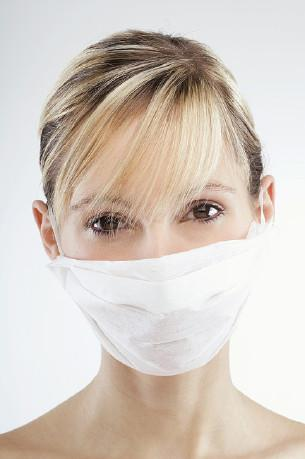OK: (46, 170, 252, 376)
